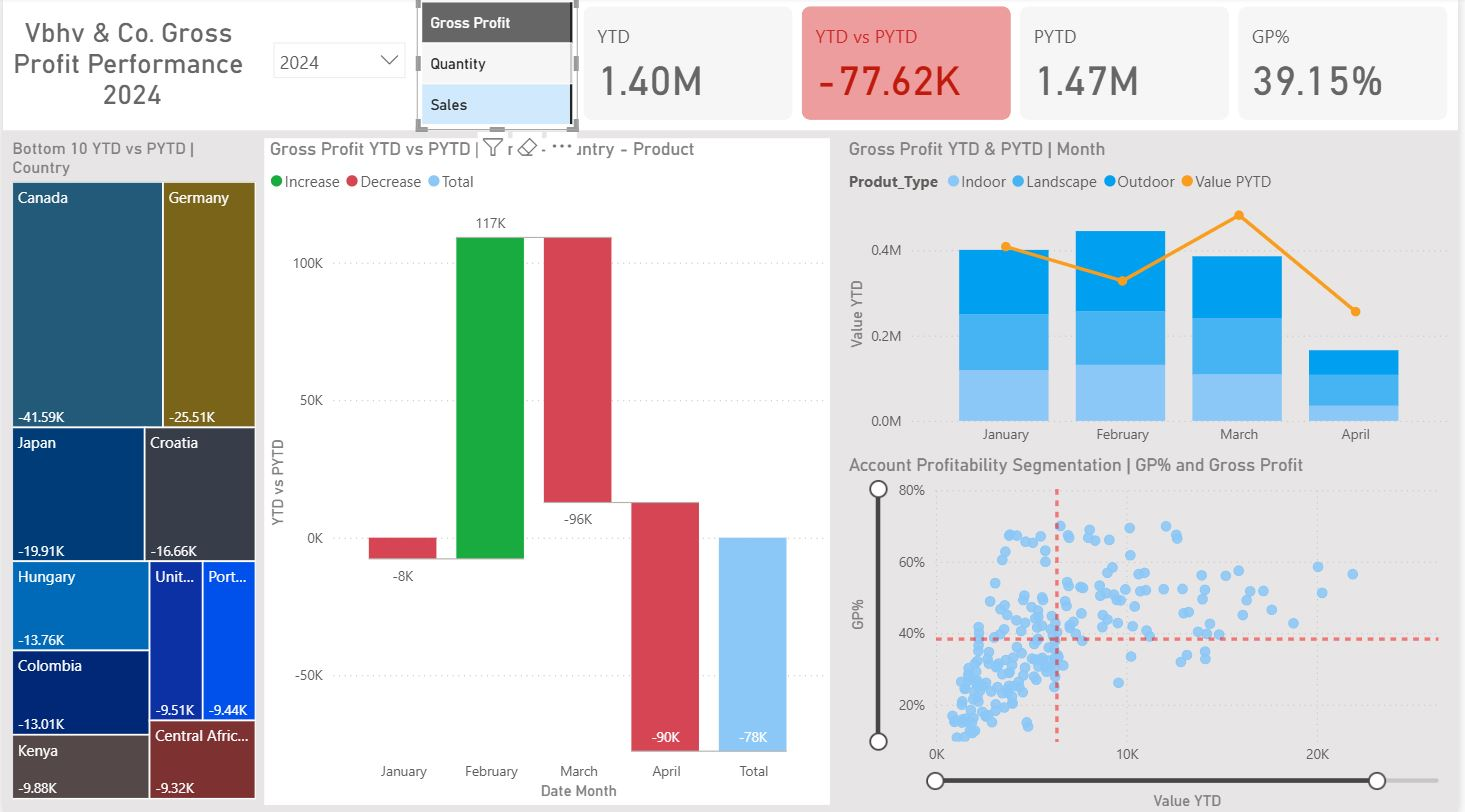

What the dashboard file says about the page in this screenshot:
{"tool":"powerbi","page":{"name":"Performance Report","canvas":[1280,720],"ordinal":0},"visuals":[{"type":"cardVisual","fields":{"Data":["_Measures.Switch_YTD","_Measures.YTD vs PYTD","_Measures.Switch_PYTD","_Measures.GP%"]},"box":[506.2,3.8,773.8,110],"z":0},{"type":"advancedSlicerVisual","fields":{"Values":["Slicer_Val.Values"]},"box":[363.8,0,142.5,117.5],"z":1000},{"type":"slicer","fields":{"Values":["Dim_Date.Date.Variation.Date Hierarchy.Year"]},"box":[227.5,30,136.2,57.5],"z":2000},{"type":"treemap","title":"Bottom 10 YTD vs PYTD | Country","fields":{"Values":["_Measures.YTD vs PYTD"],"Group":["Dim_Accounts.country"]},"box":[3.8,123.8,224,586.2],"z":3000},{"type":"waterfallChart","fields":{"Y":["_Measures.YTD vs PYTD"],"Category":["Dim_Date.Date.Variation.Date Hierarchy.Month","Dim_Accounts.country","Dim_Product.Produt_Type","Dim_Product.Product_Name"]},"box":[230,123.8,497.5,586.2],"z":4000},{"type":"lineStackedColumnComboChart","fields":{"Category":["Dim_Date.Date.Variation.Date Hierarchy.Quarter","Dim_Date.Date.Variation.Date Hierarchy.Month"],"Y":["_Measures.Switch_YTD"],"Y2":["_Measures.Switch_PYTD"],"Series":["Dim_Product.Produt_Type"]},"box":[738.8,123.8,538.8,278.8],"z":5000},{"type":"scatterChart","fields":{"Y":["_Measures.GP%"],"X":["_Measures.Switch_YTD"],"Category":["Dim_Accounts.Account"]},"box":[738.8,402.5,538.8,317.5],"z":6000},{"type":"card","fields":{"Values":["_Measures._Report title"]},"box":[0,0,227.5,115],"z":6001}]}

Visuals, with their boxes in screenshot pixels (x1, y1, x2, y2), scaled from the page's 1280x720 canvas onto the 1465x812 screenshot:
cardVisual - _Measures.Switch_YTD x _Measures.YTD vs PYTD: {"left": 579, "top": 4, "right": 1464, "bottom": 128}
advancedSlicerVisual - Slicer_Val.Values: {"left": 416, "top": 0, "right": 579, "bottom": 133}
slicer - Dim_Date.Date.Variation.Date Hierarchy.Year: {"left": 260, "top": 34, "right": 416, "bottom": 99}
"Bottom 10 YTD vs PYTD | Country" treemap: {"left": 4, "top": 140, "right": 261, "bottom": 801}
waterfallChart - _Measures.YTD vs PYTD x Dim_Date.Date.Variation.Date Hierarchy.Month: {"left": 263, "top": 140, "right": 833, "bottom": 801}
lineStackedColumnComboChart - Dim_Date.Date.Variation.Date Hierarchy.Quarter x Dim_Date.Date.Variation.Date Hierarchy.Month: {"left": 846, "top": 140, "right": 1462, "bottom": 454}
scatterChart - _Measures.GP% x _Measures.Switch_YTD: {"left": 846, "top": 454, "right": 1462, "bottom": 811}
card - _Measures._Report title: {"left": 0, "top": 0, "right": 260, "bottom": 130}
